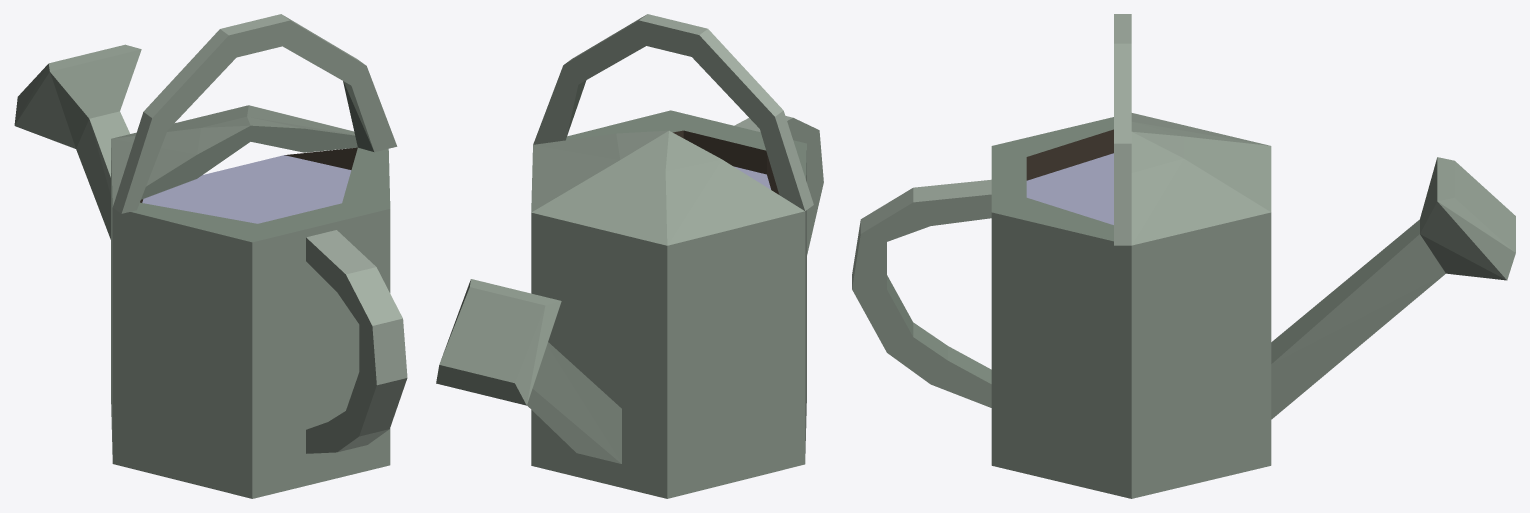
The model's file is gricoller-s-can.gltf.
3 views of the same model, side by side, from view 1: azimuth 30°, elevation 25°; view 2: azimuth 150°, elevation 25°; view 3: azimuth 270°, elevation 25° (orthographic).
Size of the model in its own units: 36 by 51 by 76.
Materials: 1 (1 with a texture image).
